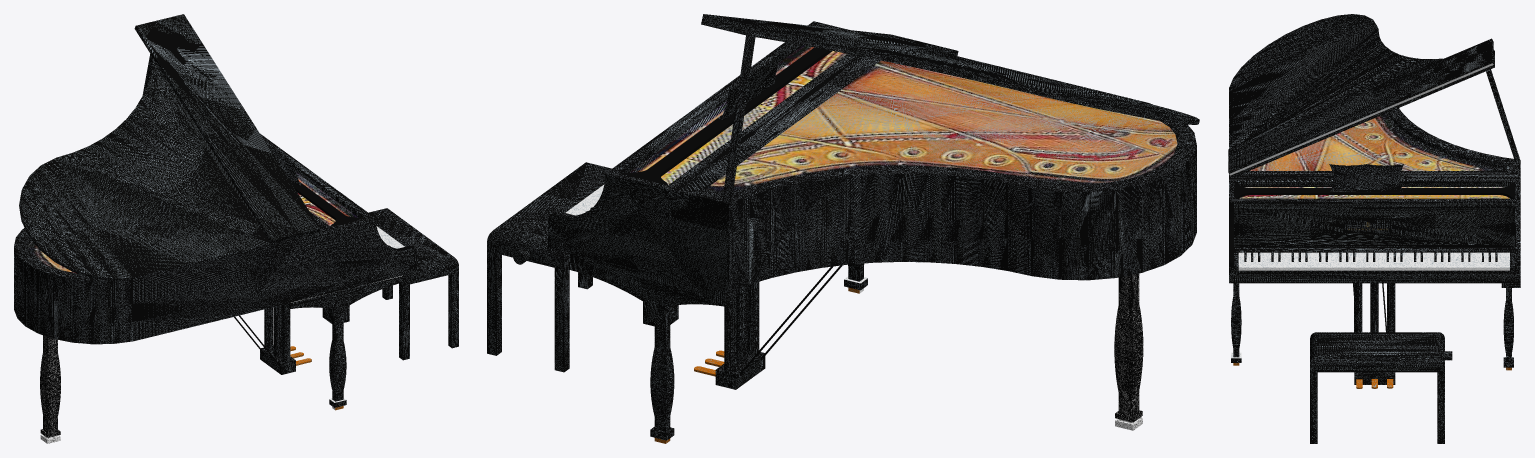
The model's file is piano.dae.
3 views of the same model, side by side, from view 1: azimuth 30°, elevation 25°; view 2: azimuth 150°, elevation 25°; view 3: azimuth 270°, elevation 25° (orthographic). The views are drawn at different scales.
Parts seen in each view (by area): view 1: group_5 (×4), group_1, group_0 (×3), group_3, group_4, group_2; view 2: group_5 (×4), group_2 (×3), group_1, group_0 (×3), group_3, group_4; view 3: group_5 (×8), group_2 (×4), group_1, group_4, group_0 (×3), group_3.
Part boxes in pixels (x1=…): group_5 (×4): x1=14, y1=14, x2=417, y2=437; group_1: x1=368, y1=208, x2=458, y2=360; group_0 (×3): x1=260, y1=304, x2=295, y2=374; group_3: x1=296, y1=172, x2=357, y2=226; group_4: x1=289, y1=179, x2=365, y2=226; group_2: x1=265, y1=142, x2=302, y2=185; group_5 (×4): x1=548, y1=14, x2=1199, y2=431; group_2 (×3): x1=706, y1=35, x2=1177, y2=203; group_1: x1=487, y1=162, x2=611, y2=372; group_0 (×3): x1=715, y1=282, x2=765, y2=389; group_3: x1=630, y1=45, x2=847, y2=184; group_4: x1=619, y1=26, x2=832, y2=185; group_5 (×8): x1=1228, y1=14, x2=1520, y2=361; group_2 (×4): x1=1249, y1=69, x2=1520, y2=191; group_1: x1=1310, y1=332, x2=1452, y2=443; group_4: x1=1234, y1=182, x2=1515, y2=198; group_0 (×3): x1=1354, y1=283, x2=1395, y2=384; group_3: x1=1239, y1=187, x2=1509, y2=198.
Bounding box in the file's own units: 175 × 106 × 122.
